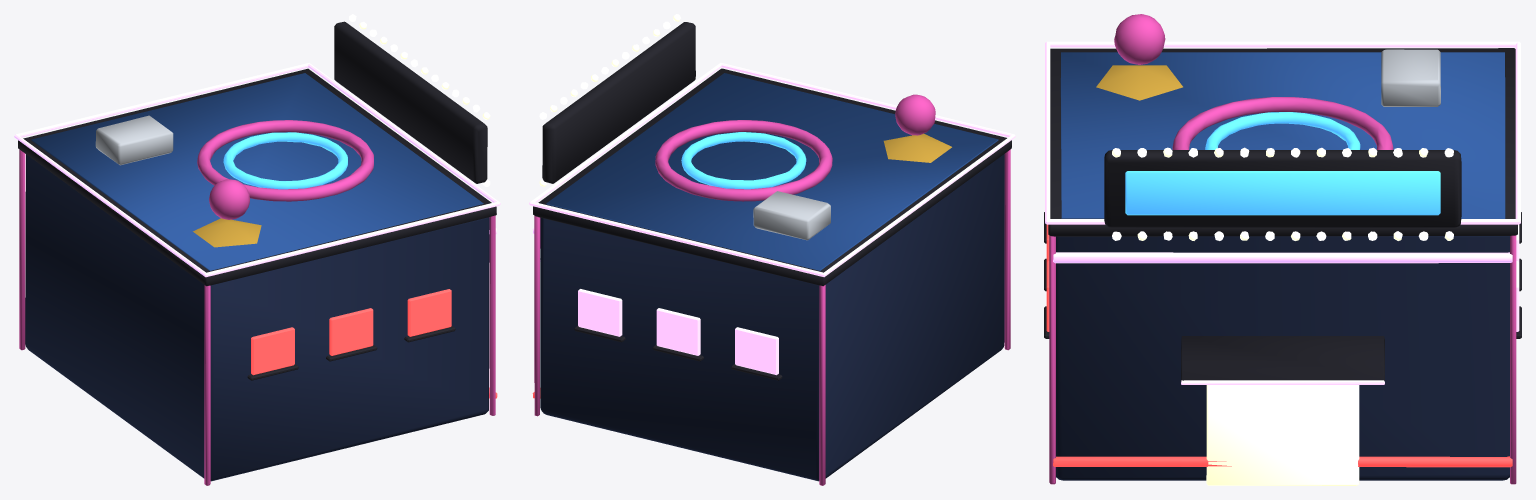
Rendered from arcade.glb.
3 renders of one model, left to right at view 1: azimuth 30°, elevation 25°; view 2: azimuth 150°, elevation 25°; view 3: azimuth 270°, elevation 25°, orthographic. The views are drawn at different scales.
Parts seen in each view (by area): view 1: arcade; view 2: arcade; view 3: arcade.
Boxes of the visible parts, <box> form: arcade: <box>14,14,500,485</box>; arcade: <box>529,14,1015,485</box>; arcade: <box>1044,14,1521,485</box>.
Size of the model in its own units: 9.57 by 7.49 by 9.34.
1 material, 1 textured.
